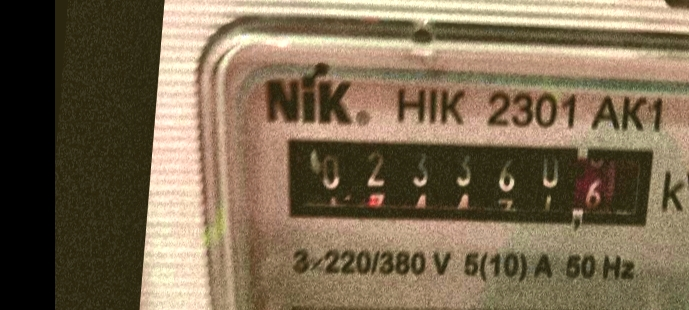0: (317, 148, 345, 192), (538, 151, 563, 189)
2: (361, 145, 390, 187)
3: (408, 147, 432, 189), (450, 149, 475, 188)
6: (492, 152, 521, 195), (583, 173, 607, 211)
screen: (260, 105, 669, 255)
